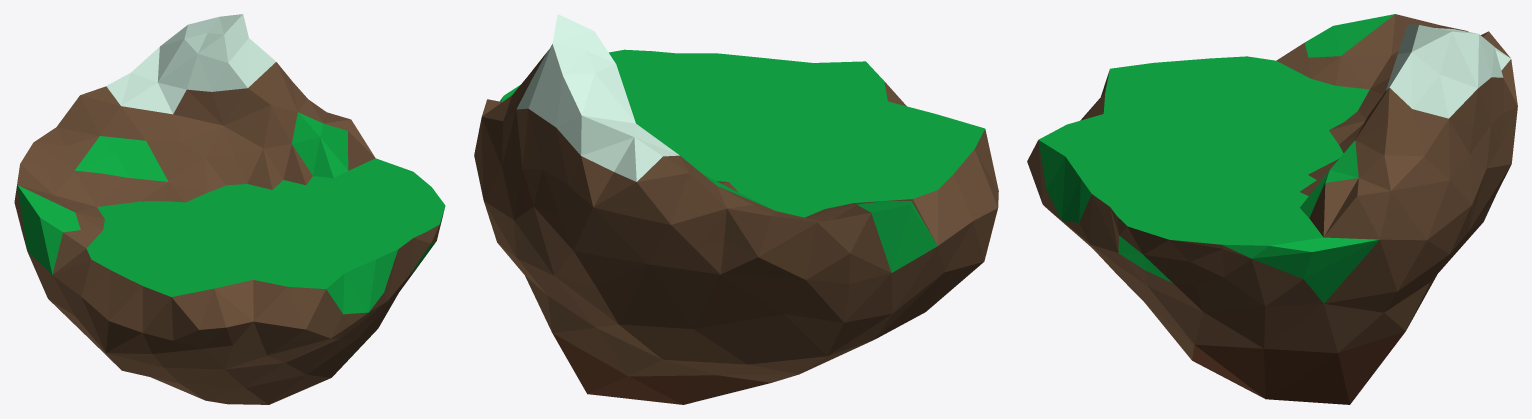
Rendered from RandShatterTest.fbx.
The picture shows the model from 3 angles, left to right: view 1: azimuth 30°, elevation 25°; view 2: azimuth 150°, elevation 25°; view 3: azimuth 270°, elevation 25°; orthographic projection. The views are drawn at different scales.
Parts seen in each view (by area): view 1: Rand, Rand_cell.013, Rand_cell.030, Rand_cell.027, Rand_cell.024, Rand_cell.034, Rand_cell.002, Rand_cell, Rand_cell.021, Rand_cell.029, Rand_cell.004, Rand_cell.009 (+4 smaller); view 2: Rand, Rand_cell.030, Rand_cell.024, Rand_cell.013, Rand_cell.035, Rand_cell.034, Rand_cell.029, Rand_cell.004, Rand_cell, Rand_cell.033, Rand_cell.021, Rand_cell.038 (+6 smaller); view 3: Rand, Rand_cell.004, Rand_cell.013, Rand_cell.034, Rand_cell.023, Rand_cell.017, Rand_cell.022, Rand_cell, Rand_cell.016, Rand_cell.001, Rand_cell.010, Rand_cell.030 (+8 smaller).
Boxes of the visible parts, bbox=[...] form: Rand: bbox=[17, 14, 444, 402]; Rand_cell.013: bbox=[154, 229, 362, 363]; Rand_cell.030: bbox=[14, 126, 160, 333]; Rand_cell.027: bbox=[150, 281, 335, 344]; Rand_cell.024: bbox=[57, 17, 217, 133]; Rand_cell.034: bbox=[115, 14, 285, 193]; Rand_cell.002: bbox=[155, 346, 325, 389]; Rand_cell: bbox=[142, 198, 242, 253]; Rand_cell.021: bbox=[40, 226, 159, 370]; Rand_cell.029: bbox=[255, 210, 434, 342]; Rand_cell.004: bbox=[271, 72, 374, 198]; Rand_cell.009: bbox=[261, 340, 357, 402]; Rand: bbox=[500, 14, 998, 404]; Rand_cell.030: bbox=[709, 174, 914, 361]; Rand_cell.024: bbox=[525, 45, 725, 284]; Rand_cell.013: bbox=[759, 60, 938, 162]; Rand_cell.035: bbox=[598, 229, 734, 355]; Rand_cell.034: bbox=[507, 14, 688, 271]; Rand_cell.029: bbox=[631, 50, 779, 144]; Rand_cell.004: bbox=[474, 64, 537, 267]; Rand_cell: bbox=[728, 143, 867, 375]; Rand_cell.033: bbox=[581, 309, 727, 384]; Rand_cell.021: bbox=[877, 144, 997, 302]; Rand_cell.038: bbox=[588, 324, 674, 392]; Rand: bbox=[1027, 14, 1517, 404]; Rand_cell.004: bbox=[1278, 106, 1469, 262]; Rand_cell.013: bbox=[1037, 66, 1231, 207]; Rand_cell.034: bbox=[1289, 25, 1484, 241]; Rand_cell.023: bbox=[1149, 180, 1324, 287]; Rand_cell.017: bbox=[1265, 240, 1346, 357]; Rand_cell.022: bbox=[1124, 221, 1256, 323]; Rand_cell: bbox=[1224, 84, 1357, 144]; Rand_cell.016: bbox=[1261, 349, 1388, 403]; Rand_cell.001: bbox=[1344, 255, 1446, 320]; Rand_cell.010: bbox=[1153, 305, 1269, 386]; Rand_cell.030: bbox=[1244, 19, 1467, 119].
Bounding box in the file's own units: 1849 × 1641 × 1914.
